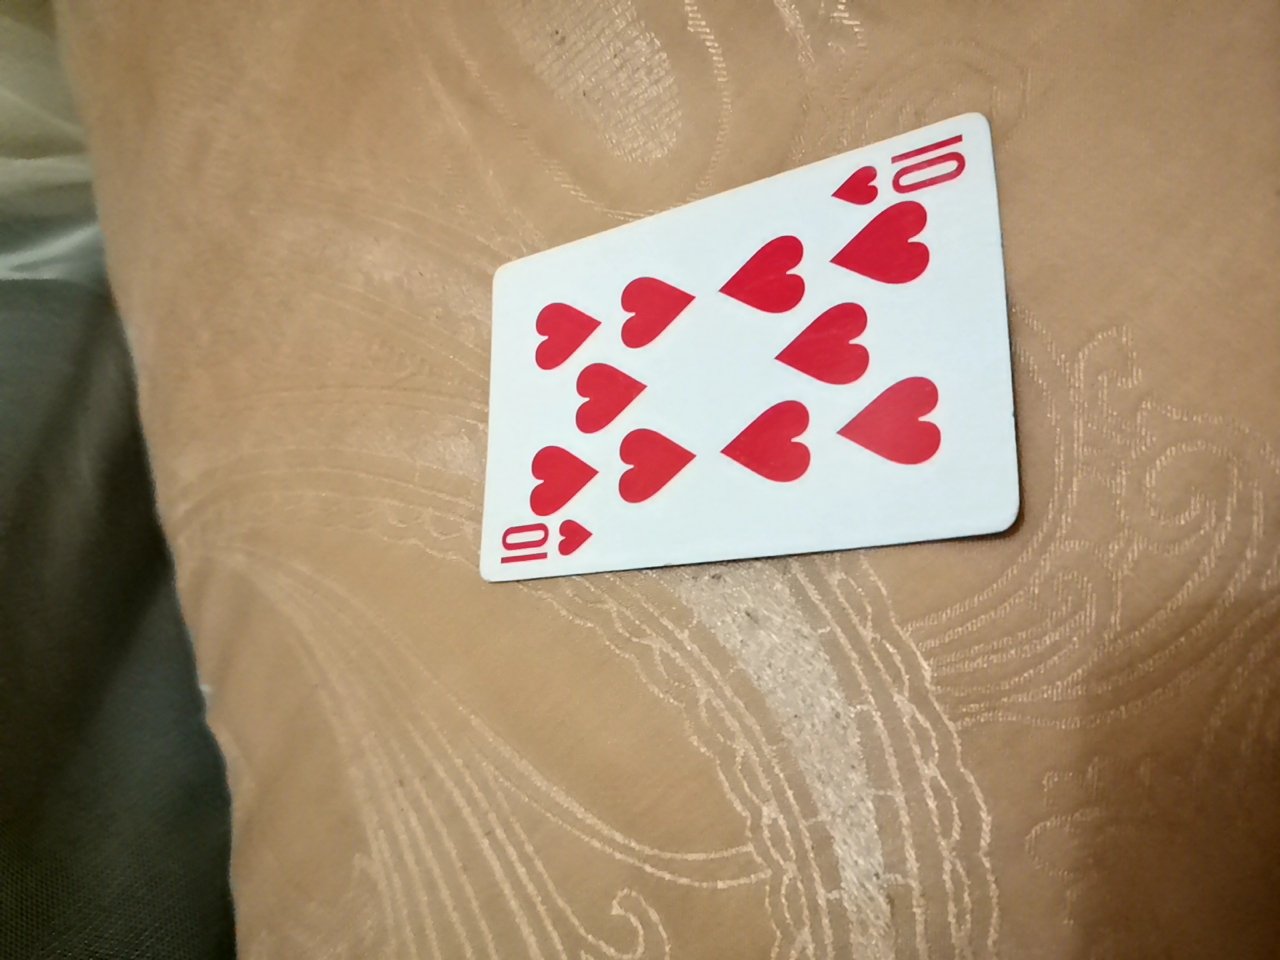hx 10: (435, 182, 1002, 636)
